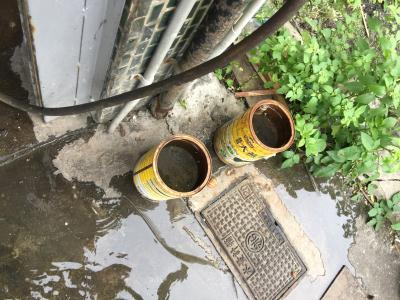bottle: (208, 97, 299, 173), (131, 134, 213, 205)
